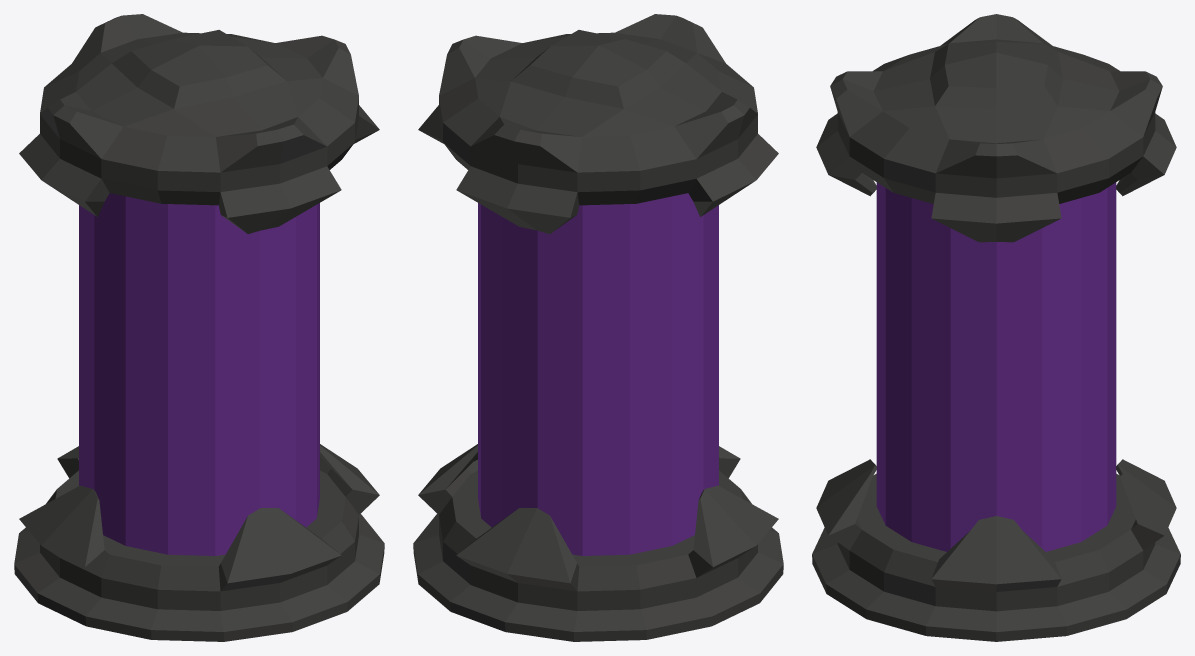
The model's file is CapsuleBig.fbx.
The picture shows the model from 3 angles, left to right: view 1: azimuth 30°, elevation 25°; view 2: azimuth 150°, elevation 25°; view 3: azimuth 270°, elevation 25°; orthographic projection.
Parts seen in each view (by area): view 1: CapsuleBig; view 2: CapsuleBig; view 3: CapsuleBig.
Part boxes in pixels (x1,y1,x2,y2): CapsuleBig: (14,14,384,641); CapsuleBig: (413,14,783,641); CapsuleBig: (812,14,1180,641).
Size of the model in its own units: 541 by 828 by 541.
